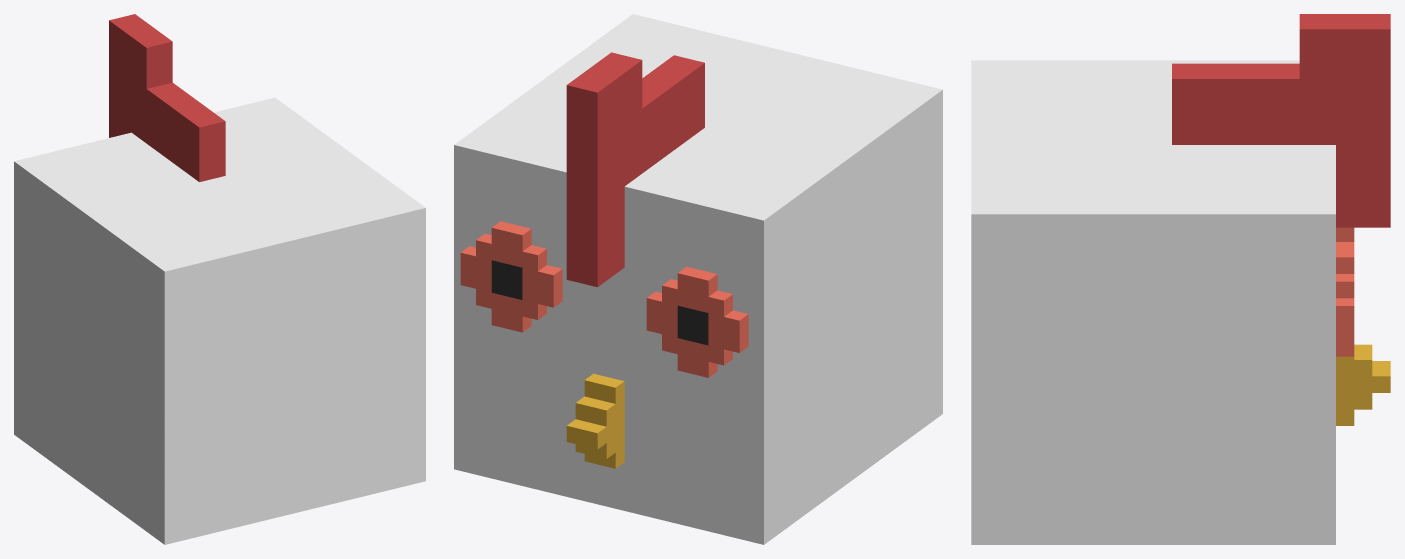
The model's file is Char5.fbx.
The picture shows the model from 3 angles, left to right: view 1: azimuth 30°, elevation 25°; view 2: azimuth 150°, elevation 25°; view 3: azimuth 270°, elevation 25°; orthographic projection. The views are drawn at different scales.
Visible parts, largest first — view 1: Box; view 2: Box; view 3: Box.
Part boxes in pixels (x1=…): Box: x1=14, y1=14, x2=425, y2=544; Box: x1=454, y1=14, x2=942, y2=544; Box: x1=971, y1=14, x2=1390, y2=544.
Size of the model in its own units: 20 by 27 by 23.
